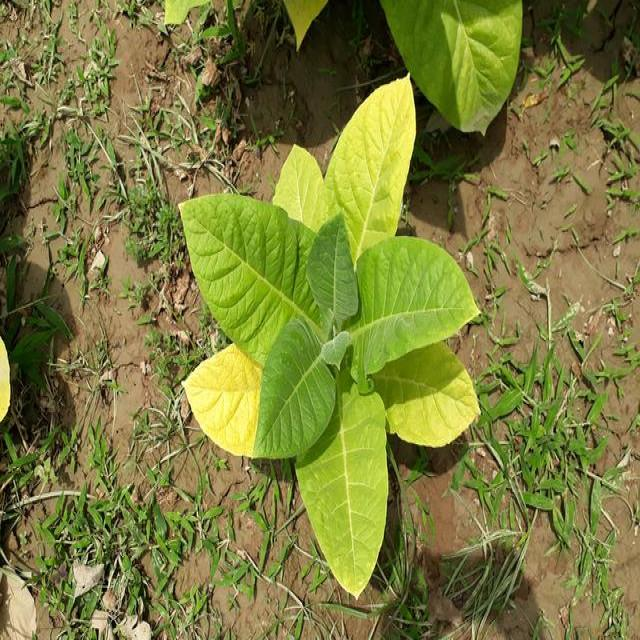crop: (175, 93, 480, 592), (378, 0, 529, 131)
